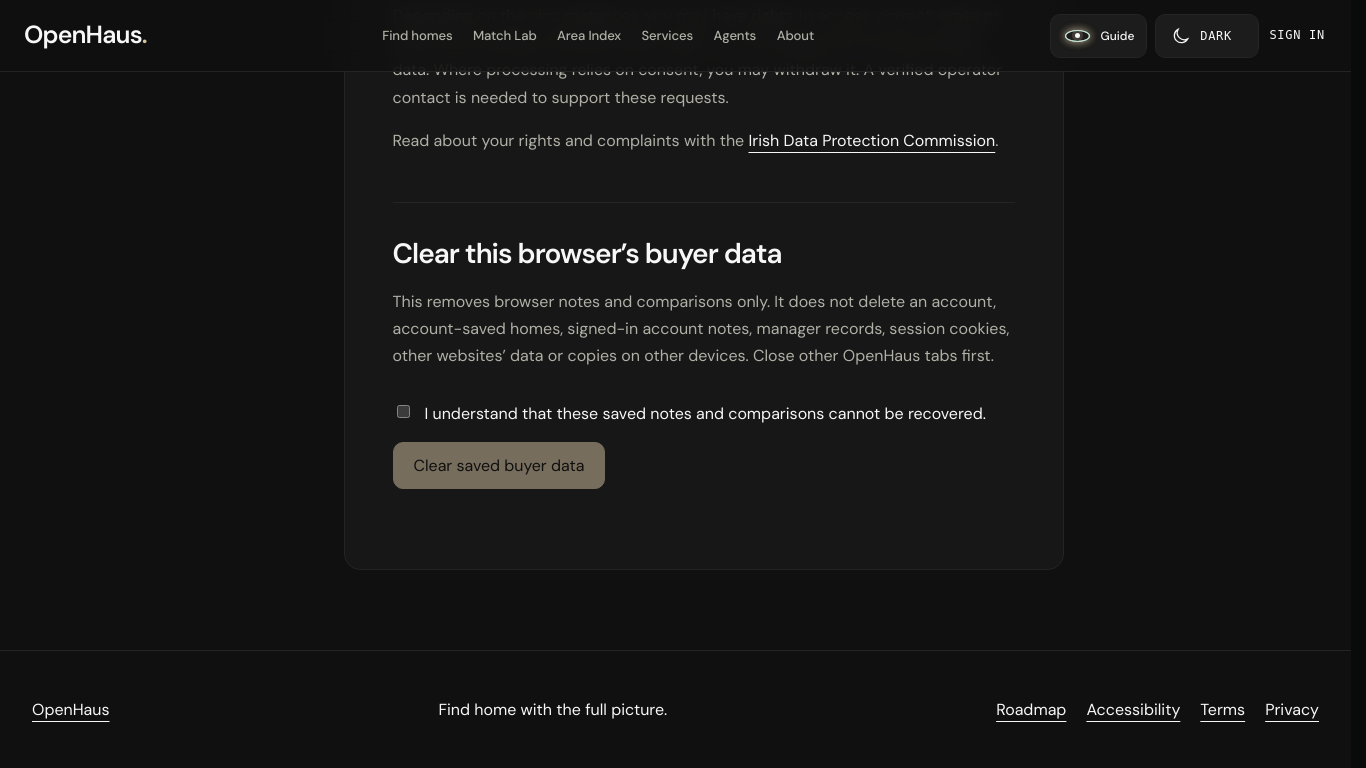
reports blocked storage without claiming deletion succeeded
This screenshot has width=1366, height=768.
(page scrolled)
Click the checkbox at (403, 411), box [396,404,410,418]
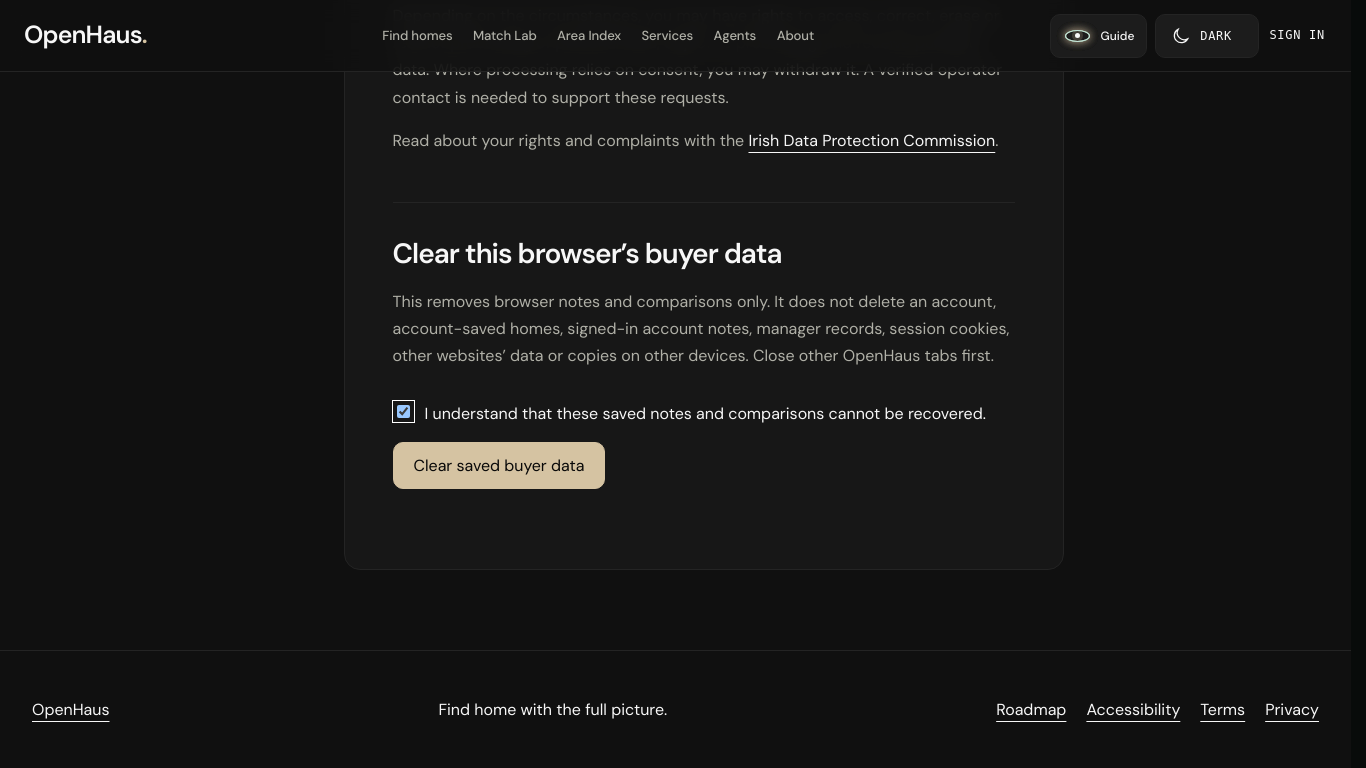
Click the button "Clear saved buyer data" at (499, 465), box [392,442,605,488]
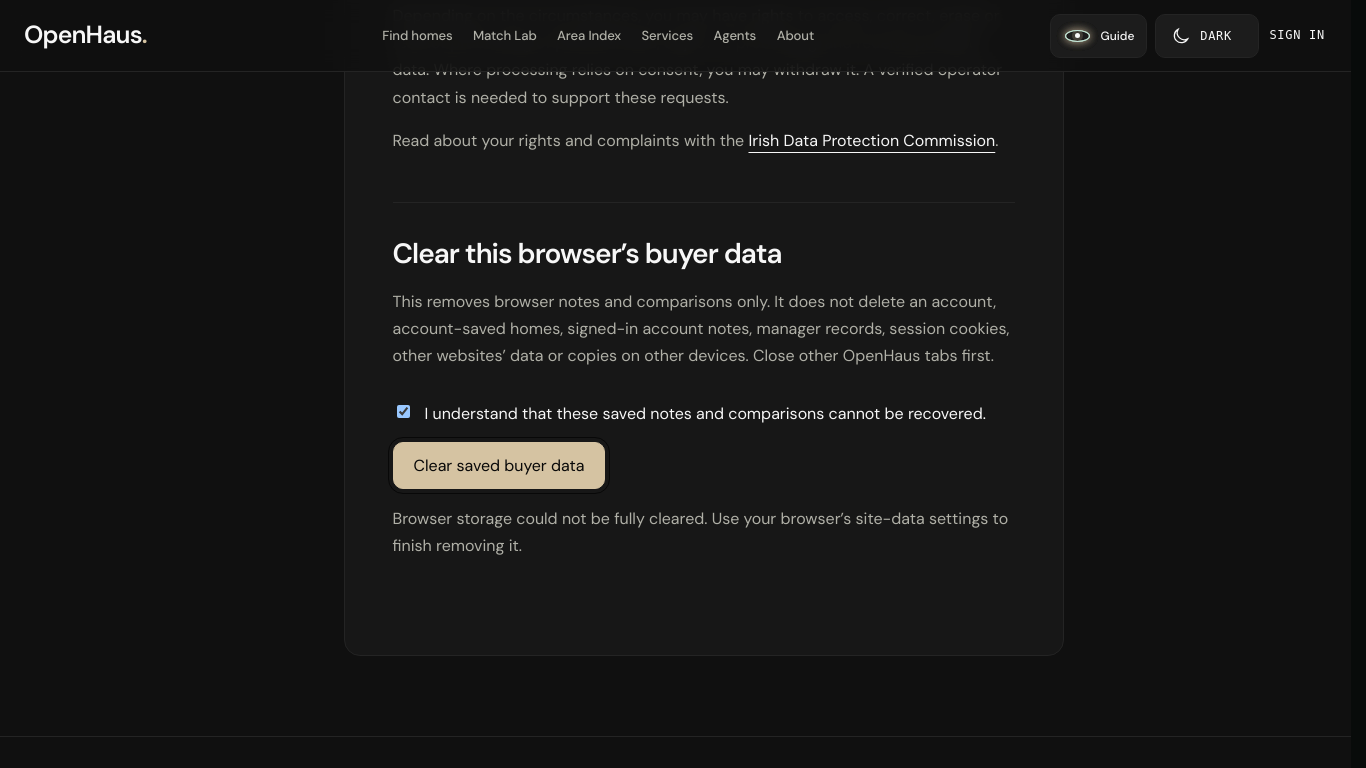
Expected: the message shows "could not be fully cleared", [392,508,1008,556]
